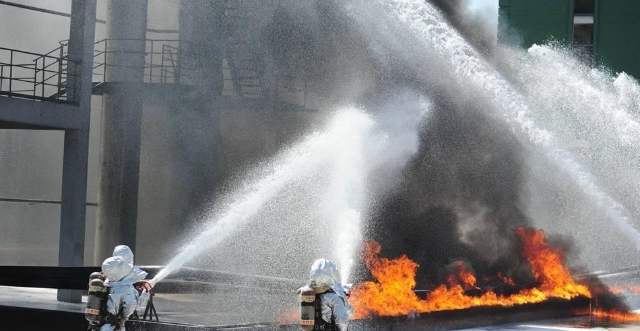喷灌水雾: (103, 0, 639, 314), (150, 78, 437, 331)
